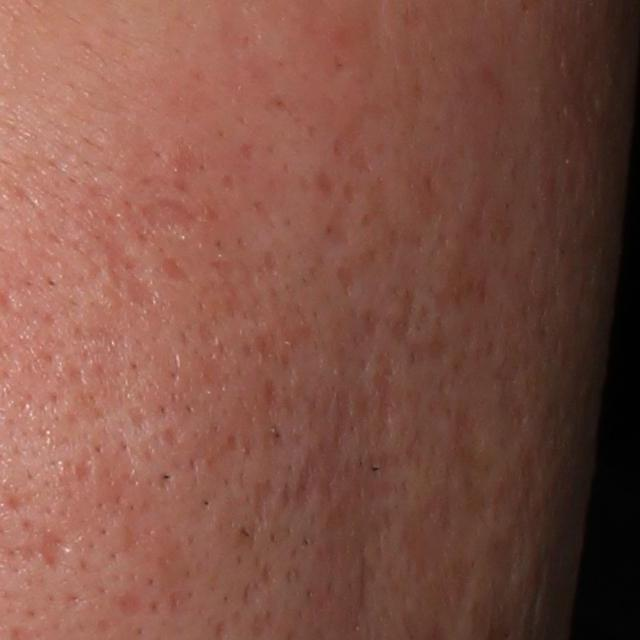atrophic_scar: (105, 237, 159, 306), (139, 197, 203, 233), (392, 287, 421, 340), (325, 199, 353, 250), (296, 452, 322, 505), (41, 532, 74, 570), (254, 478, 279, 520), (160, 258, 192, 286), (119, 586, 145, 615)
